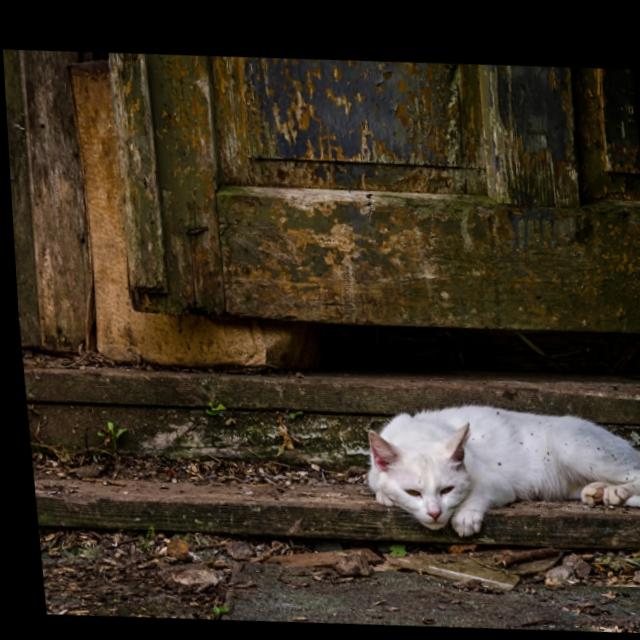animals: (353, 386, 640, 542)
